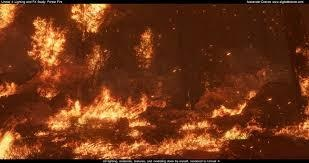fire: (69, 1, 110, 33), (133, 26, 158, 68)
